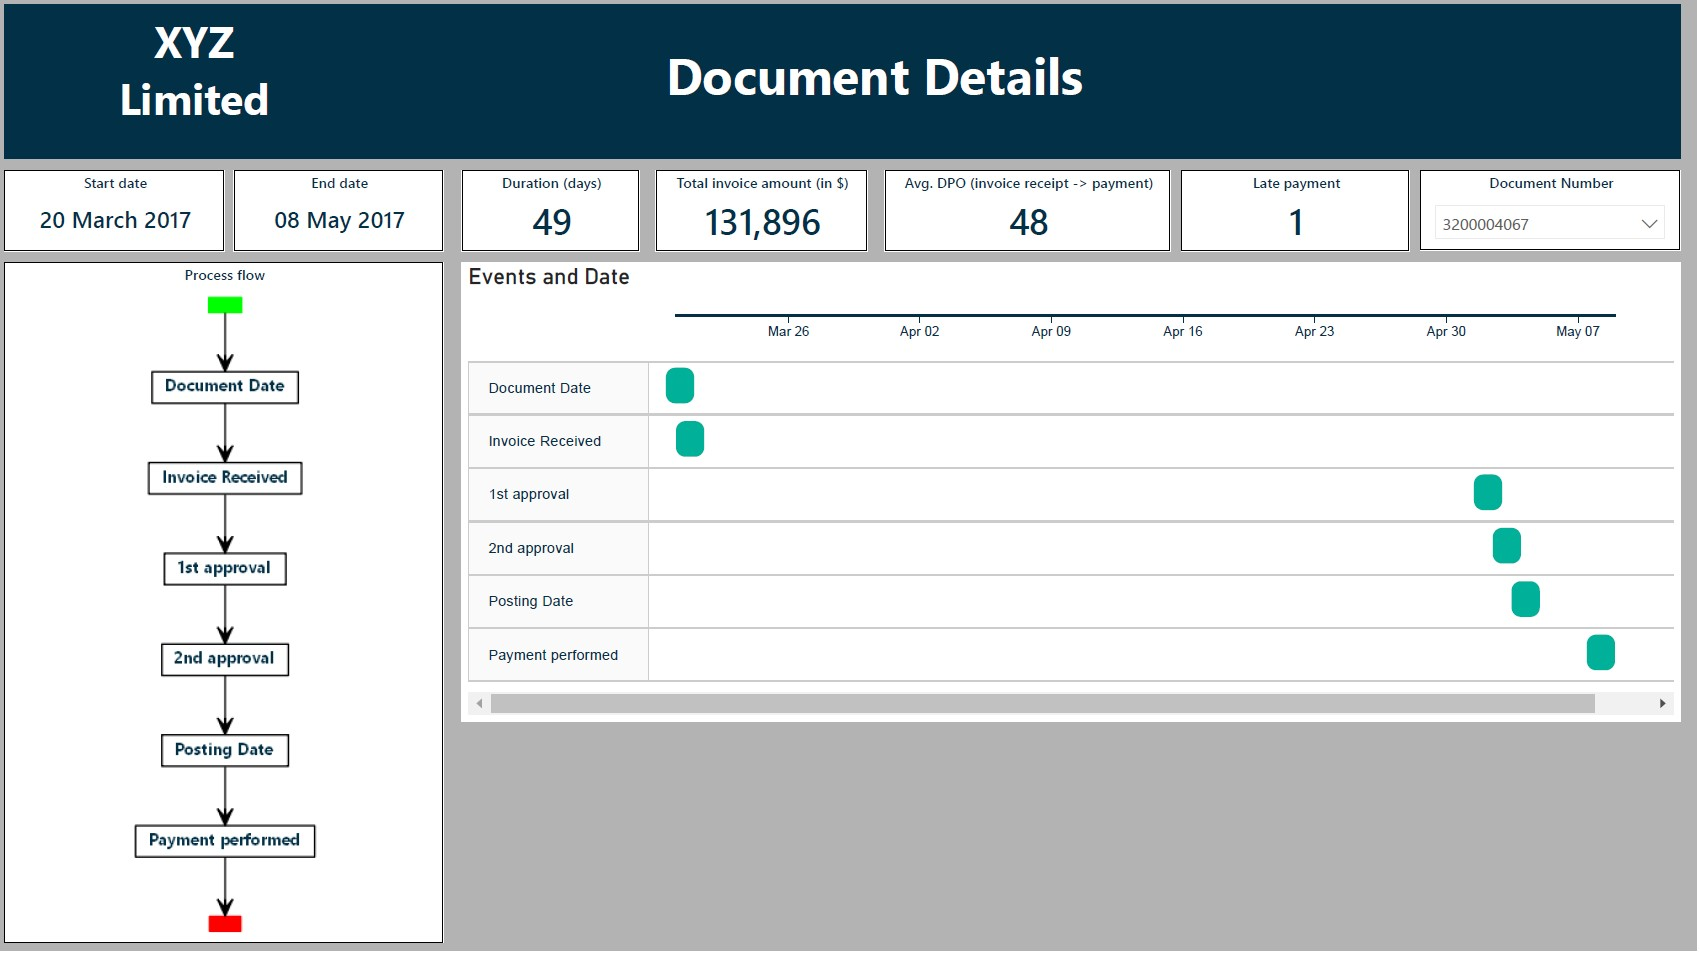

This screenshot's page, from the dashboard's own definition file:
{"tool":"powerbi","page":{"name":"Case Details","canvas":[1280,720],"ordinal":5},"visuals":[{"type":"shape","box":[11.7,10.7,1256.7,115.7],"z":0},{"type":"textbox","box":[20.4,10.7,268.2,107.9],"z":1000},{"type":"card","title":"End date","fields":{"Values":["Max(P2P_Final.Date)"]},"box":[183.6,135.3,157.7,60.3],"z":2000},{"type":"pythonVisual","title":"Process flow","fields":{"Values":["P2P_Final.Document No.","P2P_Final.Date","P2P_Final.Events","P2P_Final.Event_ID"]},"box":[12.4,203.9,329.1,509.9],"z":3000},{"type":"card","title":"Total invoice amount (in $)","fields":{"Values":["Sum(Distinct_log.Gross AMount Pos)"]},"box":[499.9,135.3,159.5,60.3],"z":4000},{"type":"card","title":"Start date","fields":{"Values":["Min(P2P_Final.Date)"]},"box":[12.1,135.3,164.6,60.3],"z":5000},{"type":"card","title":"Duration (days)","fields":{"Values":["Min(Distinct_log.Duration in days)"]},"box":[355.1,135.3,132.7,60.3],"z":6000},{"type":"card","title":"Avg. DPO (invoice receipt -> payment)","fields":{"Values":["Avg(Event_duration.Inv_Rec_Paymt)"]},"box":[672.3,135.3,213.8,60.3],"z":7000},{"type":"card","title":"Late payment","fields":{"Values":["CountNonNull(Event_duration.Inv_Rec_Paymt)"]},"box":[893.8,135.3,171.5,60.3],"z":8000},{"type":"textbox","box":[465.5,34,396.5,68],"z":9000},{"type":"Gantt1448688115699","fields":{"StartDate":["P2P_Final.Date"],"Task":["P2P_Final.Events"]},"box":[354.7,204.1,913.6,344.1],"z":10000},{"type":"slicer","title":"Document Number","fields":{"Values":["Distinct_log.Document No."]},"box":[1073,135.1,195.4,60.3],"z":11000}]}

Visuals, with their boxes in screenshot pixels (x1, y1, x2, y2), scaled from the page's 1280x720 canvas onto the 1700x955 screenshot:
shape: 16, 14, 1685, 168
textbox: 27, 14, 383, 157
"End date" card: 244, 179, 453, 259
"Process flow" pythonVisual: 16, 270, 454, 947
"Total invoice amount (in $)" card: 664, 179, 876, 259
"Start date" card: 16, 179, 235, 259
"Duration (days)" card: 472, 179, 648, 259
"Avg. DPO (invoice receipt -> payment)" card: 893, 179, 1177, 259
"Late payment" card: 1187, 179, 1415, 259
textbox: 618, 45, 1145, 135
Gantt1448688115699 - P2P_Final.Date x P2P_Final.Events: 471, 271, 1684, 727
"Document Number" slicer: 1425, 179, 1685, 259
